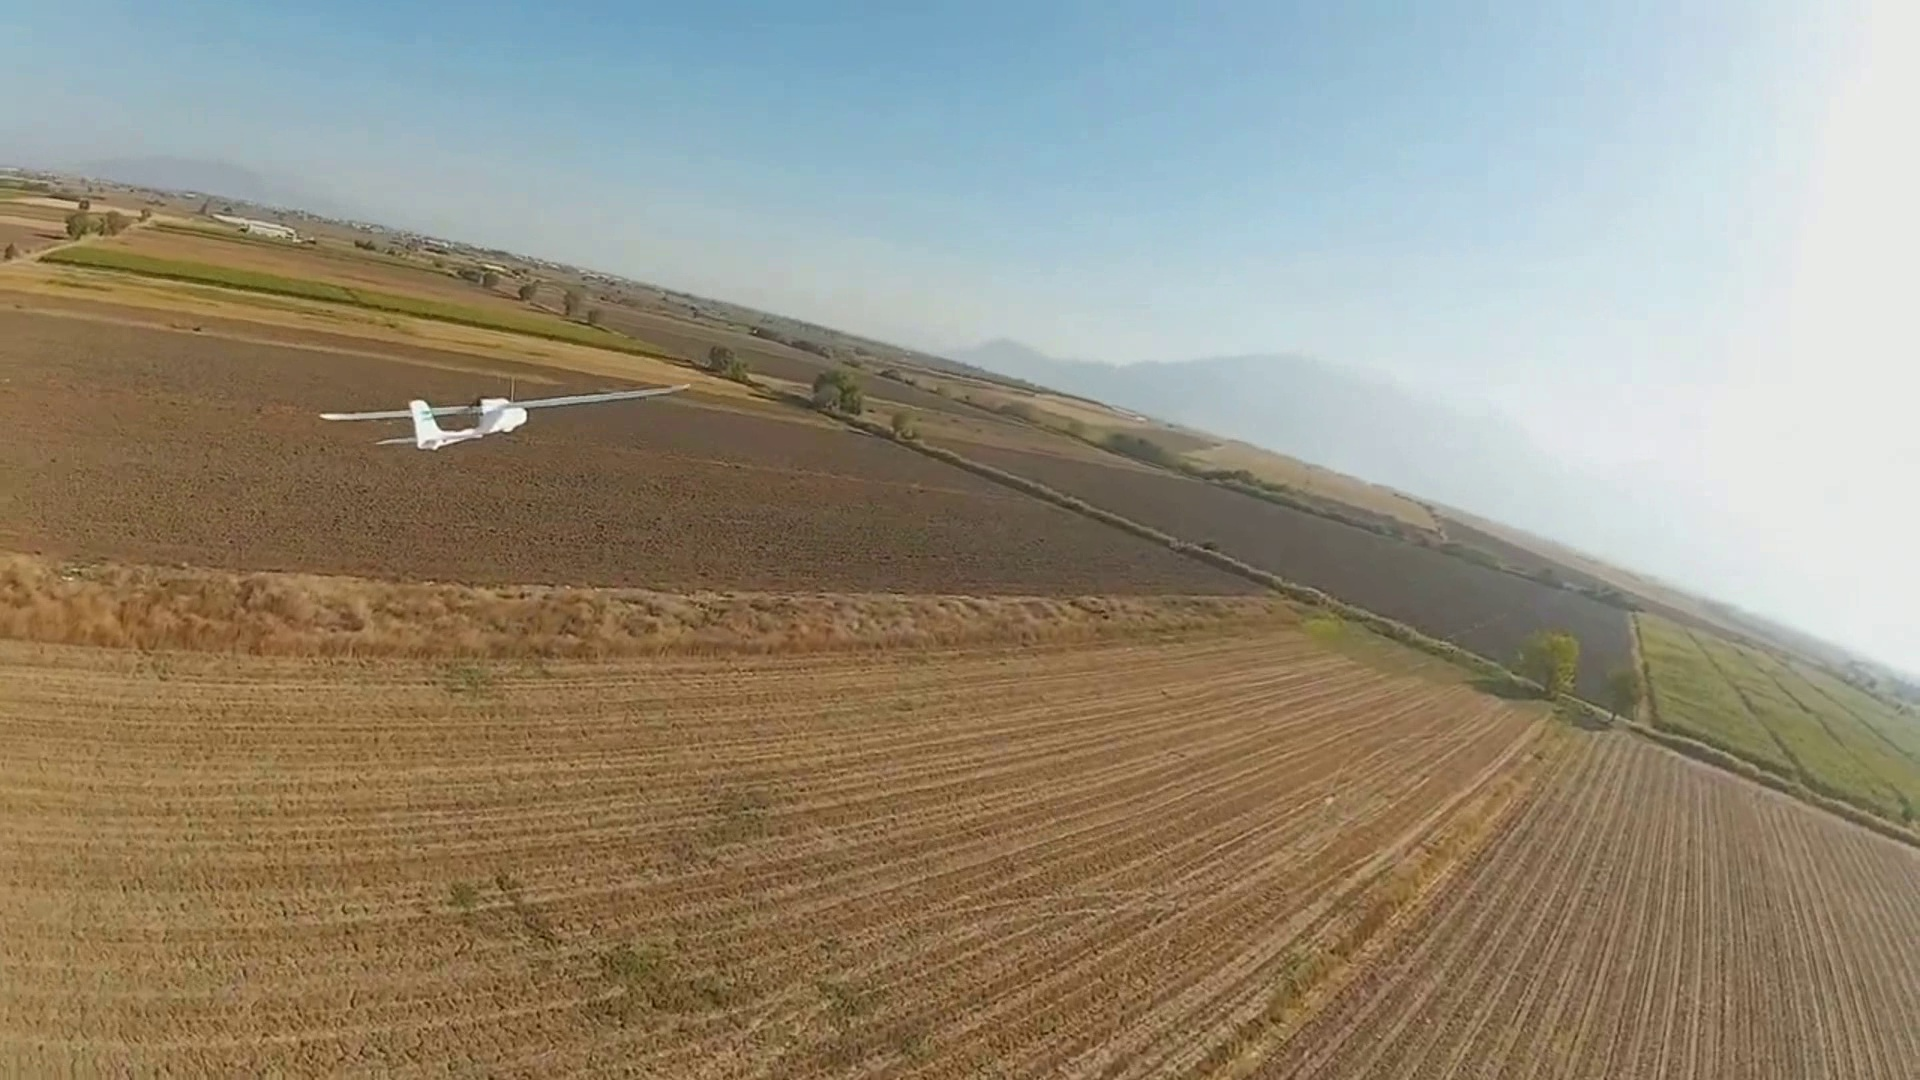airplane: (295, 254, 1918, 742), (319, 380, 700, 452), (318, 393, 533, 450), (393, 394, 533, 449)
